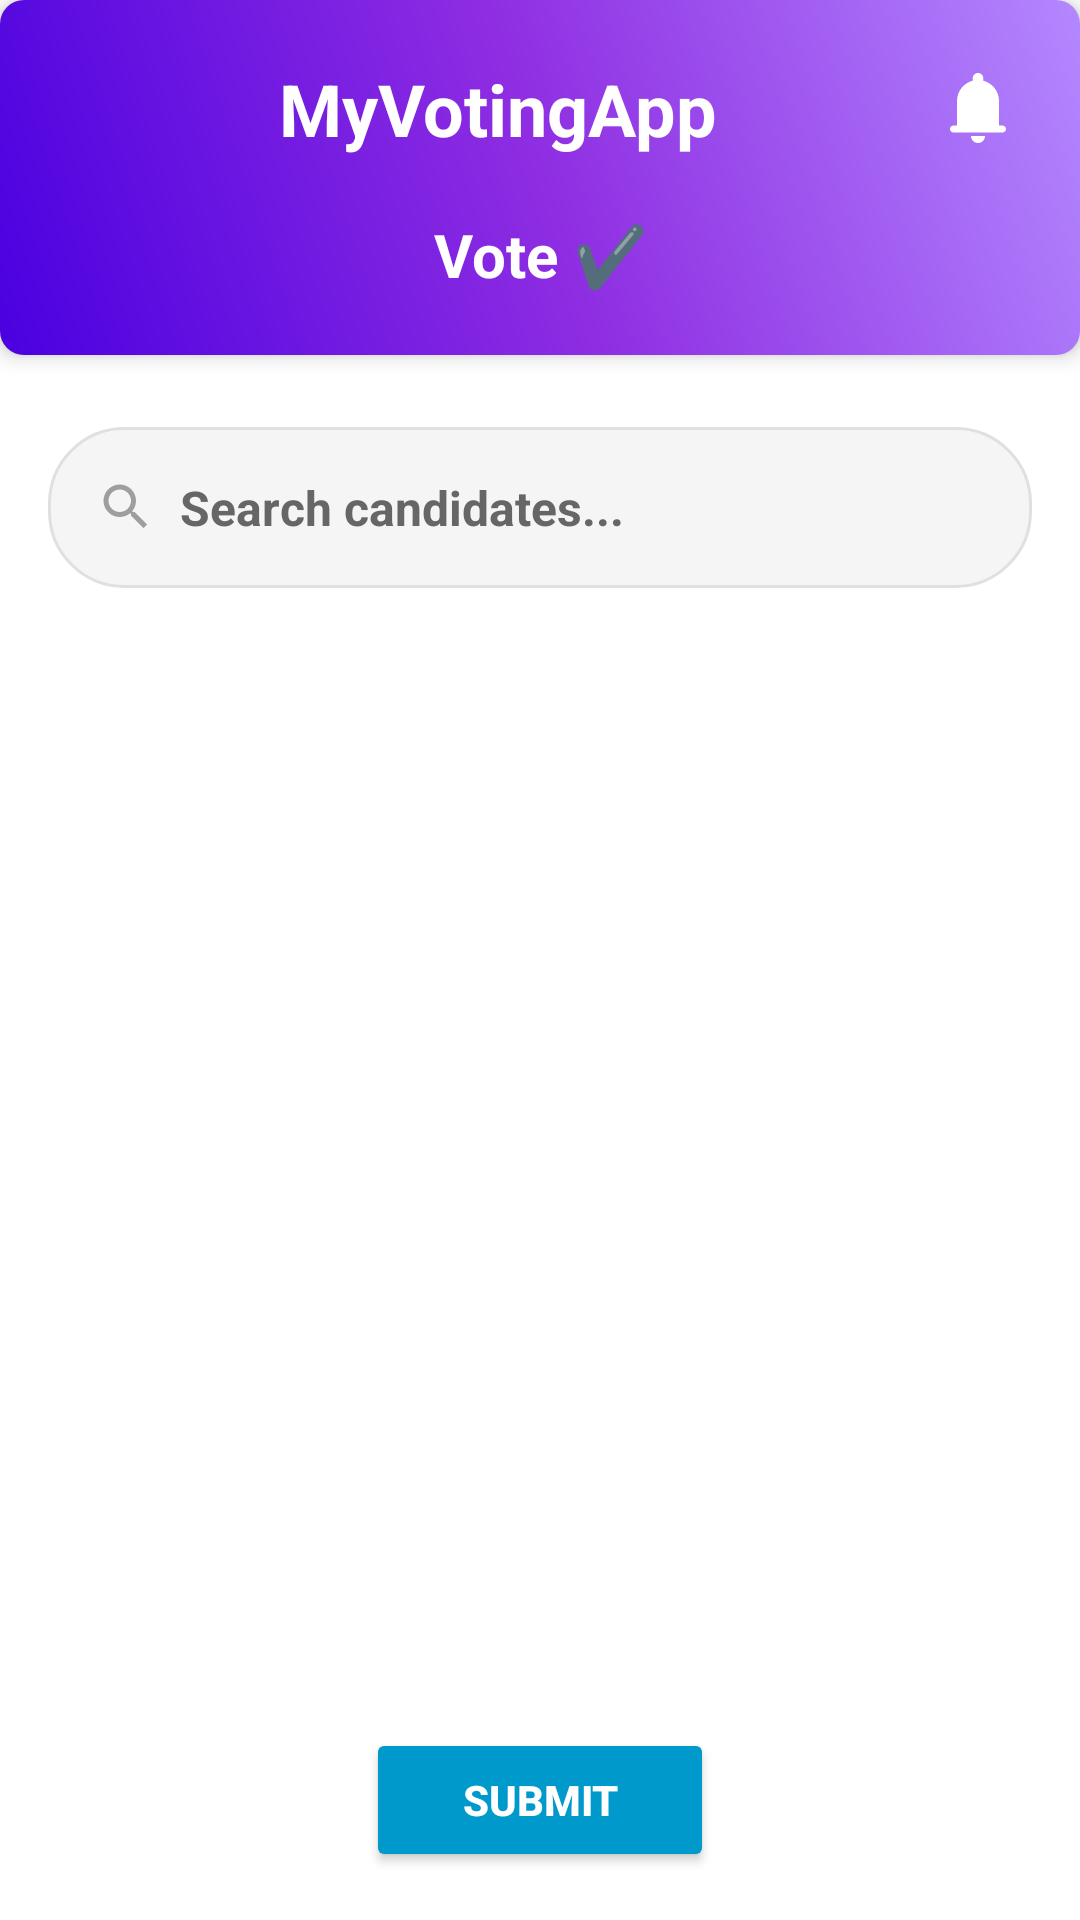

Where icons sit on this 1080x1920 app screen, as box=[x1, y1, x2, y2]:
notification: box=[950, 73, 1006, 143]
